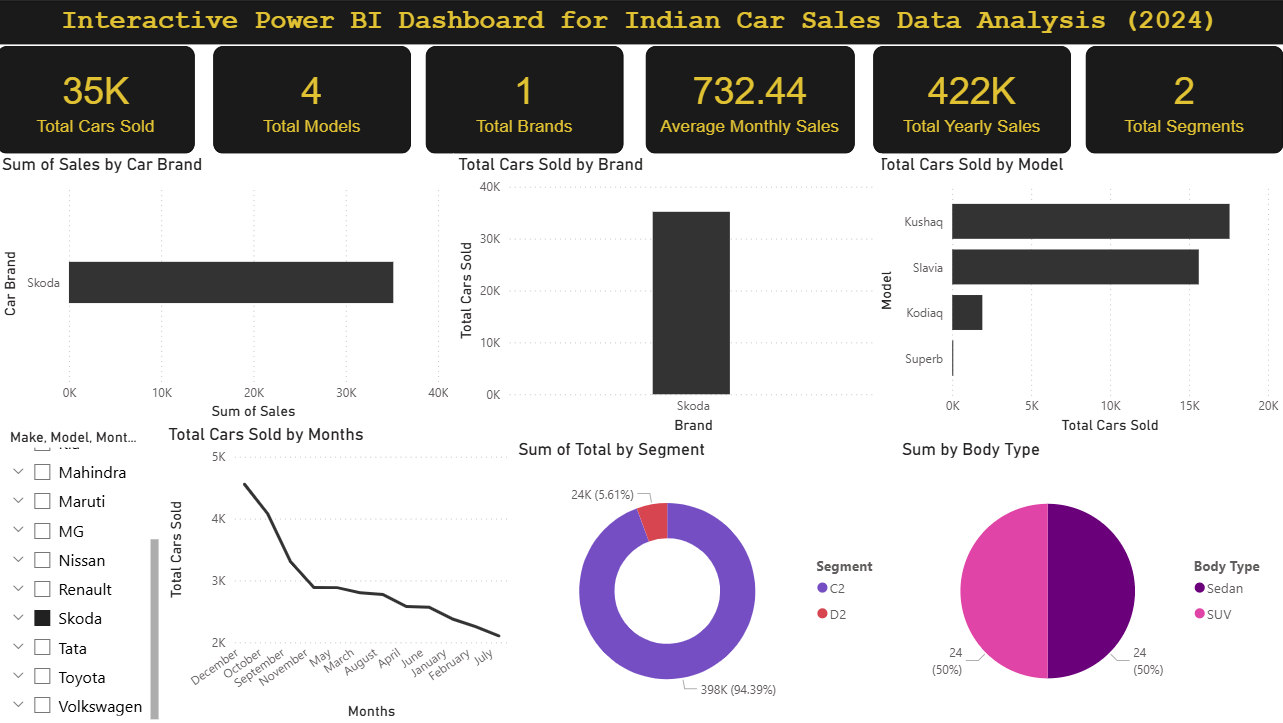

The dashboard page shown, as its layout file describes it:
{"tool":"powerbi","page":{"name":"Page 1","canvas":[1280,720],"ordinal":0},"visuals":[{"type":"card","fields":{"Values":["Sheet1.Total Cars Sold"]},"box":[0,44.8,196.5,107],"z":0},{"type":"card","fields":{"Values":["Sheet1.Total Models"]},"box":[215.2,44.8,196.5,107],"z":1},{"type":"card","fields":{"Values":["Sheet1.Total Brands"]},"box":[426.7,44.8,196.5,107],"z":2},{"type":"card","fields":{"Values":["Car Sales.Average Monthly Sales"]},"box":[645.6,44.8,207.7,107],"z":3},{"type":"card","fields":{"Values":["Car Sales.Total Yearly Sales"]},"box":[872,44.8,196.5,107],"z":4},{"type":"card","fields":{"Values":["Car Sales.Total Segments"]},"box":[1083.4,44.8,196.5,107],"z":5},{"type":"clusteredBarChart","fields":{"Category":["Car Sales.Make"],"Y":["Sum(Car Sales.Sales)"]},"box":[0,151.8,454,269.9],"z":6},{"type":"pieChart","fields":{"Category":["Car Sales.Body Type"],"Y":["CountNonNull(Car Sales.Total)"]},"box":[895.7,435.4,384.4,284.9],"z":7},{"type":"donutChart","fields":{"Category":["Car Sales.Segment"],"Y":["Sum(Car Sales.Total)"]},"box":[513.8,435.4,381.9,284.9],"z":8},{"type":"barChart","fields":{"Category":["Car Sales.Model"],"Y":["Car Sales.Total Cars Sold"]},"box":[872,151.8,408,283.6],"z":10},{"type":"slicer","fields":{"Values":["Car Sales.Make","Car Sales.Model","Car Sales.Months","Car Sales.Body Type","Car Sales.Segment"]},"box":[0,420.5,165.4,299.8],"z":11},{"type":"lineChart","fields":{"Y":["Car Sales.Total Cars Sold"],"Category":["Car Sales.Months"]},"box":[165.4,420.5,348.3,299.8],"z":12},{"type":"lineClusteredColumnComboChart","fields":{"Y":["Car Sales.Total Cars Sold"],"Category":["Car Sales.Make"]},"box":[454,151.8,426.7,283.6],"z":13},{"type":"textbox","box":[0,0,1280,43.5],"z":14}]}

Visuals, with their boxes in screenshot pixels (x1, y1, x2, y2), scaled from the page's 1280x720 canvas onto the 1283x723 screenshot:
card - Sheet1.Total Cars Sold: bbox=(0, 45, 197, 152)
card - Sheet1.Total Models: bbox=(216, 45, 413, 152)
card - Sheet1.Total Brands: bbox=(428, 45, 625, 152)
card - Car Sales.Average Monthly Sales: bbox=(647, 45, 855, 152)
card - Car Sales.Total Yearly Sales: bbox=(874, 45, 1071, 152)
card - Car Sales.Total Segments: bbox=(1086, 45, 1282, 152)
clusteredBarChart - Car Sales.Make x Sum(Car Sales.Sales): bbox=(0, 152, 455, 423)
pieChart - Car Sales.Body Type x CountNonNull(Car Sales.Total): bbox=(898, 437, 1282, 722)
donutChart - Car Sales.Segment x Sum(Car Sales.Total): bbox=(515, 437, 898, 722)
barChart - Car Sales.Model x Car Sales.Total Cars Sold: bbox=(874, 152, 1282, 437)
slicer - Car Sales.Make x Car Sales.Model: bbox=(0, 422, 166, 722)
lineChart - Car Sales.Total Cars Sold x Car Sales.Months: bbox=(166, 422, 515, 722)
lineClusteredColumnComboChart - Car Sales.Total Cars Sold x Car Sales.Make: bbox=(455, 152, 883, 437)
textbox: bbox=(0, 0, 1282, 44)
